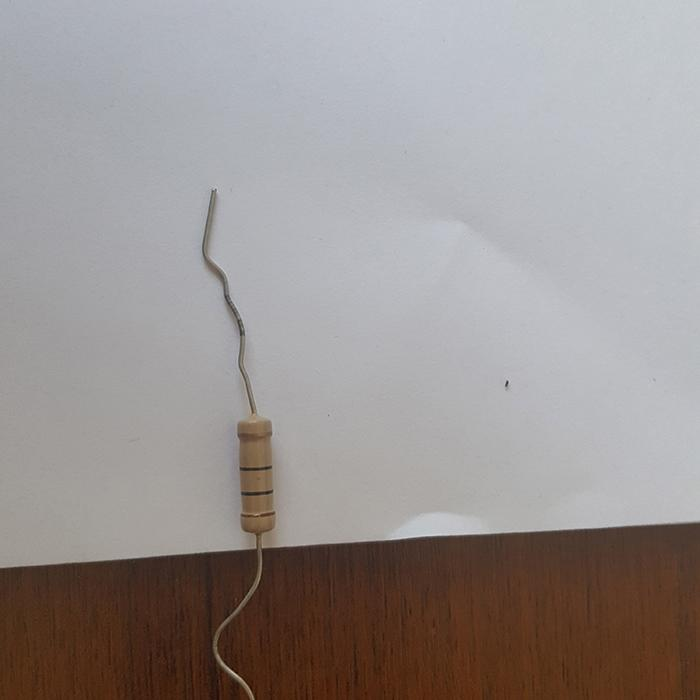resistor: (236, 412, 275, 533)
